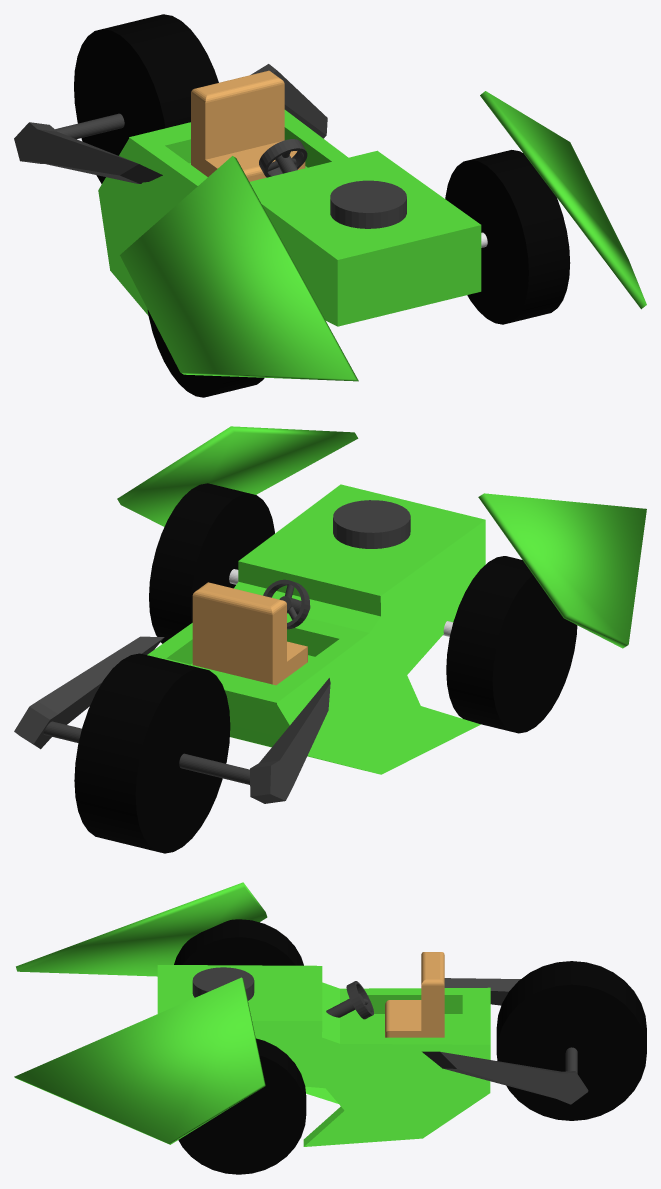
Rendered from kart_com_asa.fbx.
3 renders of one model, top to bottom at view 1: azimuth 30°, elevation 25°; view 2: azimuth 150°, elevation 25°; view 3: azimuth 270°, elevation 25°, orthographic. The views are drawn at different scales.
Visible parts, largest first — view 1: corpo, coiso pontudo d, roda e, rodona, cadeira, coiso pontudo e, segurador bola d, botao, roda d, segurador da bola e, volante, segurador roda tras; view 2: corpo, rodona, roda d, coiso pontudo d, roda e, coiso pontudo e, cadeira, segurador bola d, segurador da bola e, botao, segurador roda tras, volante; view 3: corpo, coiso pontudo e, rodona, roda e, coiso pontudo d, roda d, segurador da bola e, cadeira, botao, segurador bola d, volante.
Boxes of the visible parts, box(x1,y1,x2,y2) form: corpo: box(98, 110, 481, 326); coiso pontudo d: box(120, 156, 358, 381); roda e: box(445, 150, 570, 324); rodona: box(74, 14, 218, 183); cadeira: box(191, 70, 305, 181); coiso pontudo e: box(480, 91, 646, 309); segurador bola d: box(14, 122, 162, 183); botao: box(330, 180, 406, 228); roda d: box(147, 310, 264, 397); segurador da bola e: box(251, 64, 327, 138); volante: box(259, 139, 307, 177); segurador roda tras: box(55, 113, 124, 139); corpo: box(147, 484, 485, 774); rodona: box(74, 653, 230, 853); roda d: box(446, 556, 577, 733); coiso pontudo d: box(478, 493, 646, 648); roda e: box(149, 483, 274, 643); coiso pontudo e: box(117, 426, 358, 526); cadeira: box(192, 582, 307, 685); segurador bola d: box(250, 678, 330, 803); segurador da bola e: box(14, 636, 164, 749); botao: box(333, 500, 410, 548); segurador roda tras: box(43, 721, 249, 784); volante: box(263, 579, 310, 629); corpo: box(157, 965, 490, 1146); coiso pontudo e: box(14, 977, 265, 1144); rodona: box(496, 961, 646, 1120); roda e: box(178, 1038, 306, 1174); coiso pontudo d: box(16, 882, 267, 976); roda d: box(174, 919, 303, 965); segurador da bola e: box(422, 1051, 588, 1104); cadeira: box(385, 952, 444, 1037); botao: box(192, 967, 254, 1000); segurador bola d: box(444, 978, 520, 1005); volante: box(326, 981, 373, 1019).
Size of the model in its own units: 210 by 101 by 319.
